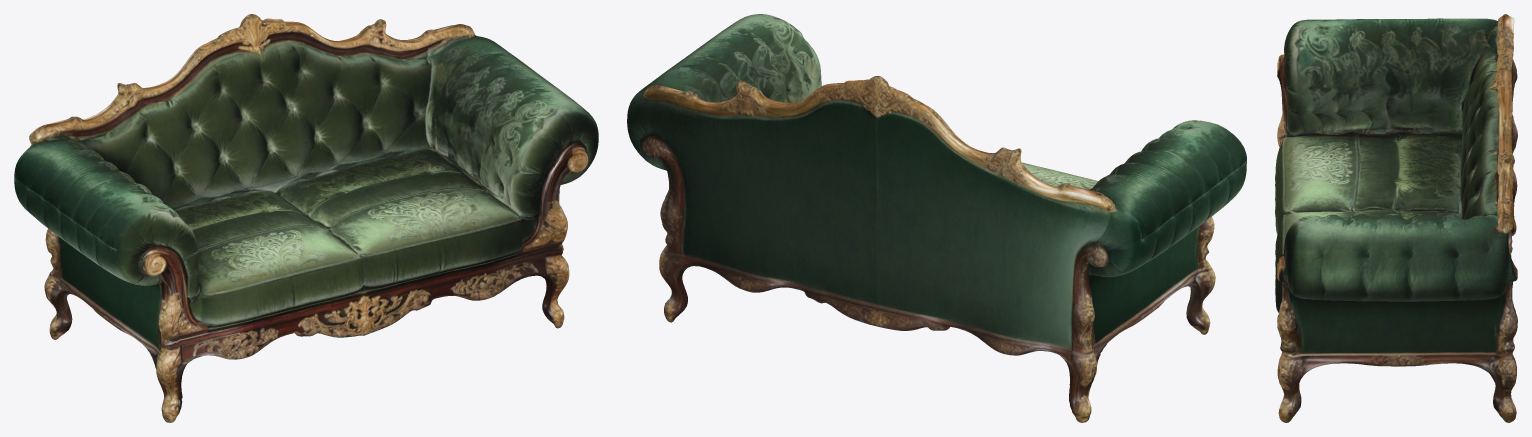
Rendered from sofa.glb.
3 renders of one model, left to right at view 1: azimuth 30°, elevation 25°; view 2: azimuth 150°, elevation 25°; view 3: azimuth 270°, elevation 25°, orthographic. The views are drawn at different scales.
Parts seen in each view (by area): view 1: Mesh_0_Material_0_0; view 2: Mesh_0_Material_0_0; view 3: Mesh_0_Material_0_0.
Boxes of the visible parts, <box> form: Mesh_0_Material_0_0: <box>14,14,598,422</box>; Mesh_0_Material_0_0: <box>627,14,1246,422</box>; Mesh_0_Material_0_0: <box>1275,14,1517,422</box>.
Size of the model in its own units: 2 by 1.09 by 0.8776.
Materials: 1 (1 with a texture image).
